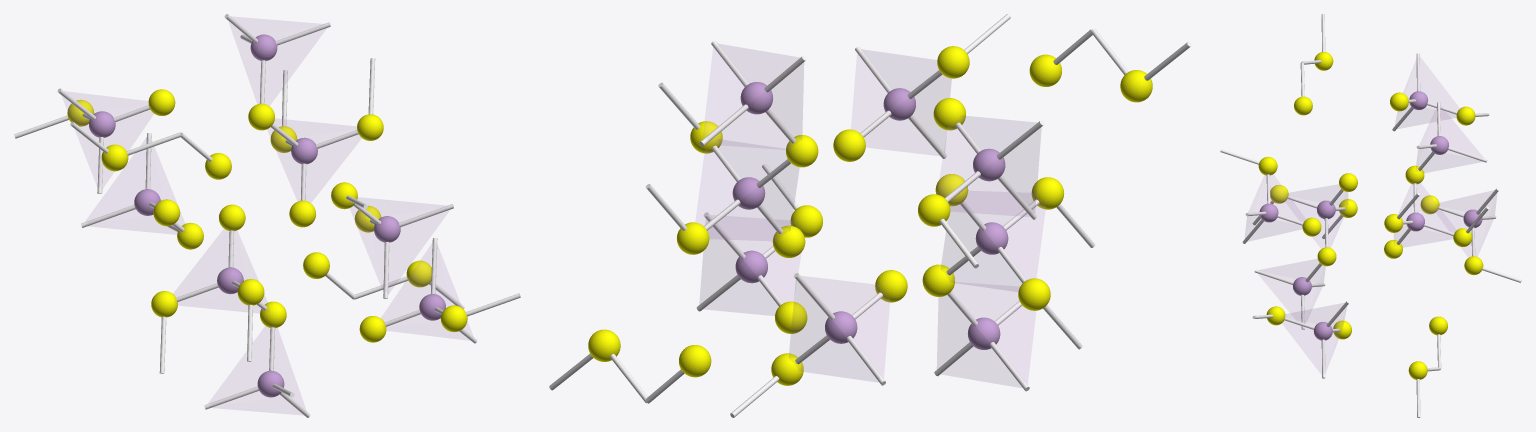
Rendered from structure_mpstyle.glb.
3 renders of one model, left to right at view 1: azimuth 30°, elevation 25°; view 2: azimuth 150°, elevation 25°; view 3: azimuth 270°, elevation 25°, orthographic. The views are drawn at different scales.
Parts seen in each view (by area): view 1: world; view 2: world; view 3: world.
Part boxes in pixels (left/top/right/bottom): world: left=14, top=14, right=520, bottom=417; world: left=549, top=14, right=1191, bottom=417; world: left=1220, top=14, right=1521, bottom=417.
Bounding box in the file's own units: 15.88 × 11.47 × 12.7.
